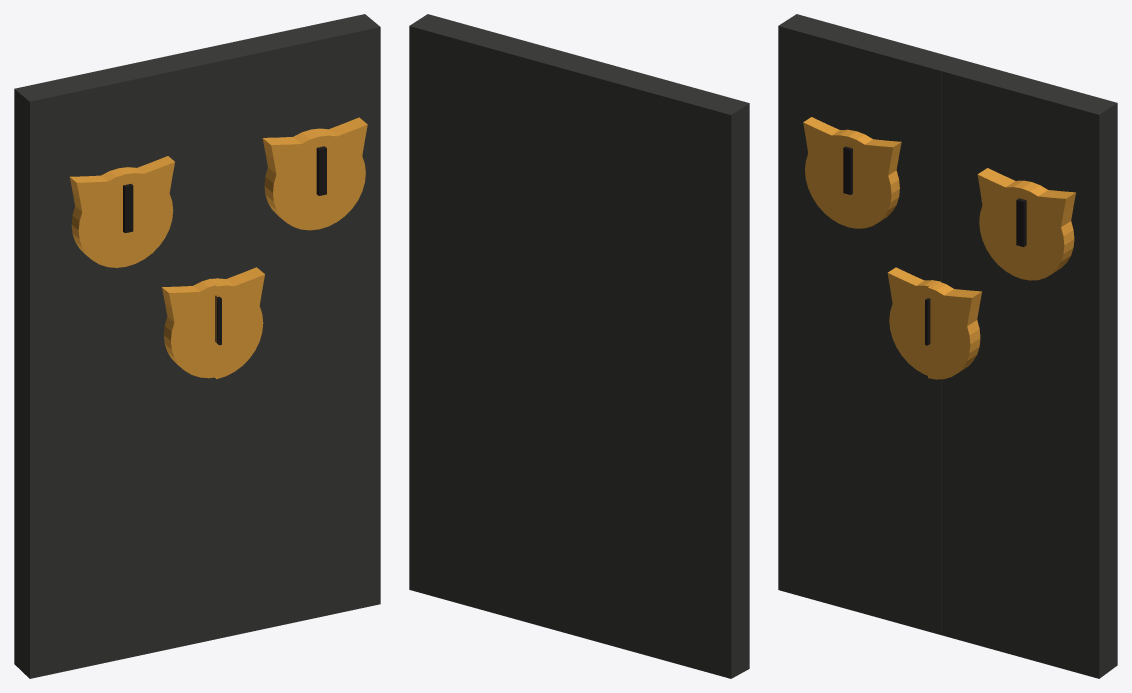
File: dialDoor.fbx
3 renders of one model, left to right at view 1: azimuth 30°, elevation 25°; view 2: azimuth 150°, elevation 25°; view 3: azimuth 330°, elevation 25°, orthographic. The views are drawn at different scales.
Parts seen in each view (by area): view 1: Door; view 2: Door; view 3: Door.
Boxes of the visible parts, bbox=[...] form: Door: bbox=[14, 14, 380, 678]; Door: bbox=[409, 14, 749, 678]; Door: bbox=[778, 14, 1117, 678].
Size of the model in its own units: 341 by 551 by 69.59.
